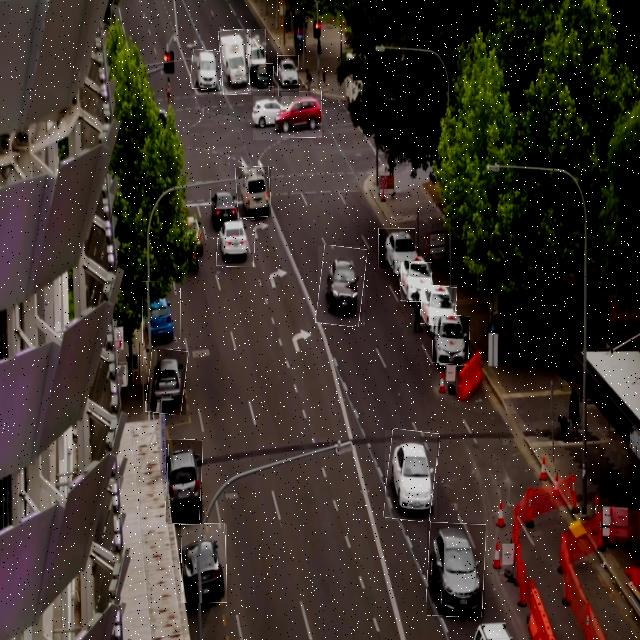Car: (427, 523, 485, 616), (386, 430, 438, 521), (318, 246, 365, 326), (181, 524, 227, 603), (166, 440, 202, 524), (143, 281, 181, 349), (147, 349, 186, 415), (281, 92, 322, 138), (217, 219, 254, 267), (433, 316, 470, 364), (236, 167, 271, 217), (253, 96, 289, 140), (378, 228, 415, 269), (210, 188, 240, 238), (421, 285, 457, 326), (191, 50, 223, 89), (401, 262, 431, 302), (278, 55, 299, 96), (248, 29, 266, 67), (250, 64, 274, 87)
Truck: (220, 29, 251, 95)
